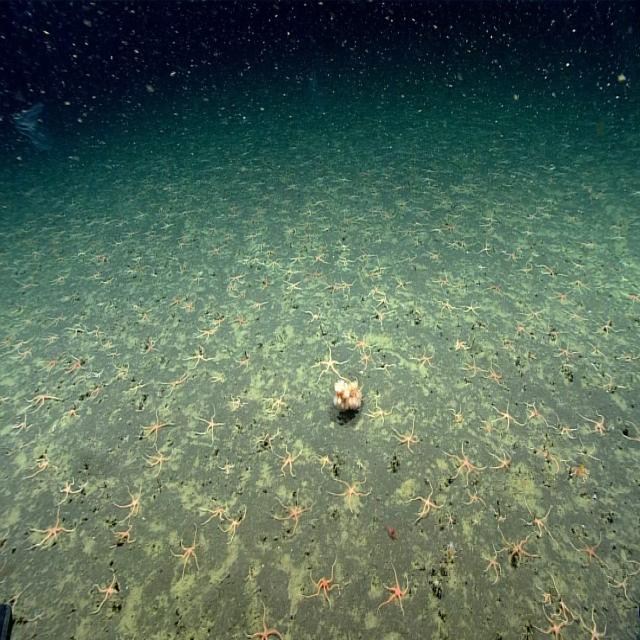brittle-stars: (275, 492, 309, 534), (171, 532, 203, 576), (308, 559, 338, 604), (522, 497, 554, 538), (381, 564, 407, 614), (32, 510, 67, 547), (247, 603, 282, 640), (334, 476, 369, 512), (412, 480, 441, 521), (570, 530, 602, 567), (448, 441, 475, 483), (579, 604, 609, 640), (25, 448, 54, 484), (318, 346, 346, 382), (116, 484, 145, 518), (537, 606, 565, 640), (95, 574, 120, 612), (220, 509, 248, 540), (200, 494, 227, 526), (197, 408, 222, 442), (143, 446, 171, 476), (580, 407, 608, 437), (276, 443, 301, 476), (160, 369, 190, 396), (142, 413, 166, 445), (491, 400, 516, 430), (396, 423, 418, 453), (482, 547, 503, 578), (27, 388, 56, 410), (525, 400, 547, 428), (111, 521, 136, 545), (369, 398, 391, 425), (266, 389, 288, 415), (552, 412, 573, 439), (186, 346, 211, 368), (58, 477, 79, 503), (513, 538, 536, 561), (488, 447, 512, 469), (63, 354, 85, 376), (486, 360, 503, 387), (522, 302, 544, 322), (564, 306, 586, 326), (594, 316, 614, 338), (462, 358, 482, 378), (416, 346, 434, 368), (194, 325, 217, 342), (512, 318, 529, 341), (466, 488, 485, 508), (394, 272, 412, 293), (551, 287, 571, 305), (352, 331, 368, 353), (558, 340, 575, 360), (229, 393, 244, 414), (38, 357, 58, 372), (439, 297, 454, 317), (464, 299, 480, 317), (453, 336, 469, 354), (15, 348, 33, 364), (358, 349, 373, 368), (308, 264, 322, 284), (230, 313, 247, 329), (432, 273, 448, 290), (340, 278, 356, 294), (48, 311, 64, 327), (143, 339, 158, 356), (66, 404, 80, 422), (283, 279, 302, 292), (452, 275, 466, 291), (478, 240, 492, 256), (374, 296, 391, 309), (488, 282, 502, 297), (337, 255, 352, 269), (283, 265, 298, 279), (182, 299, 196, 313), (260, 274, 272, 290), (428, 248, 440, 264), (267, 257, 281, 270), (229, 272, 244, 284), (445, 509, 453, 530), (292, 251, 304, 265), (442, 223, 456, 234), (103, 337, 113, 351), (210, 244, 220, 258)
